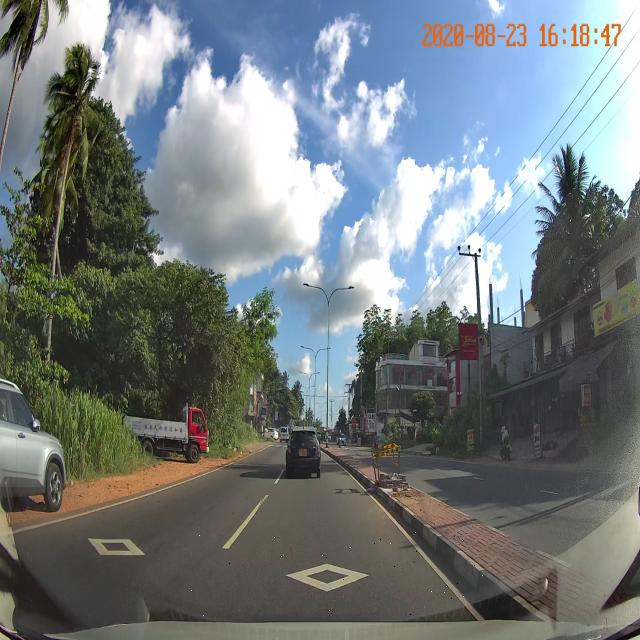diamond: (189, 533, 484, 618)
